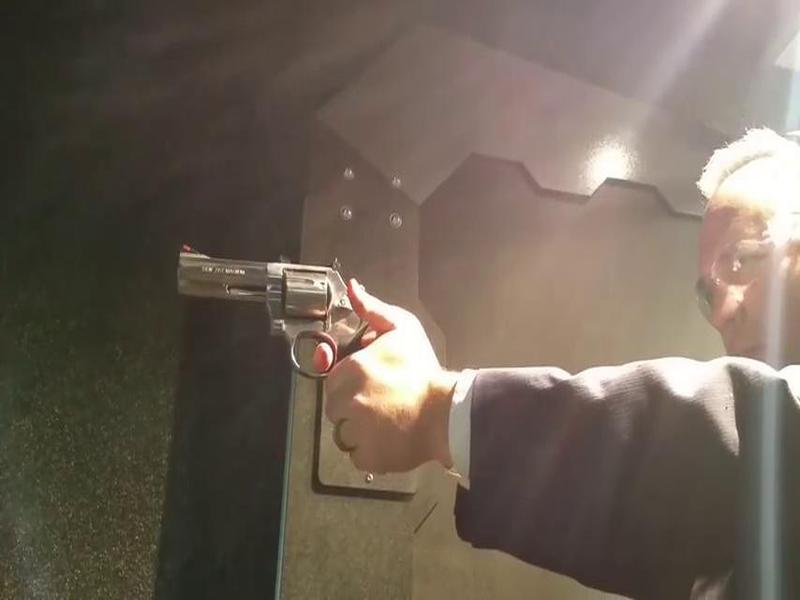Revolver: (167, 234, 379, 400)
